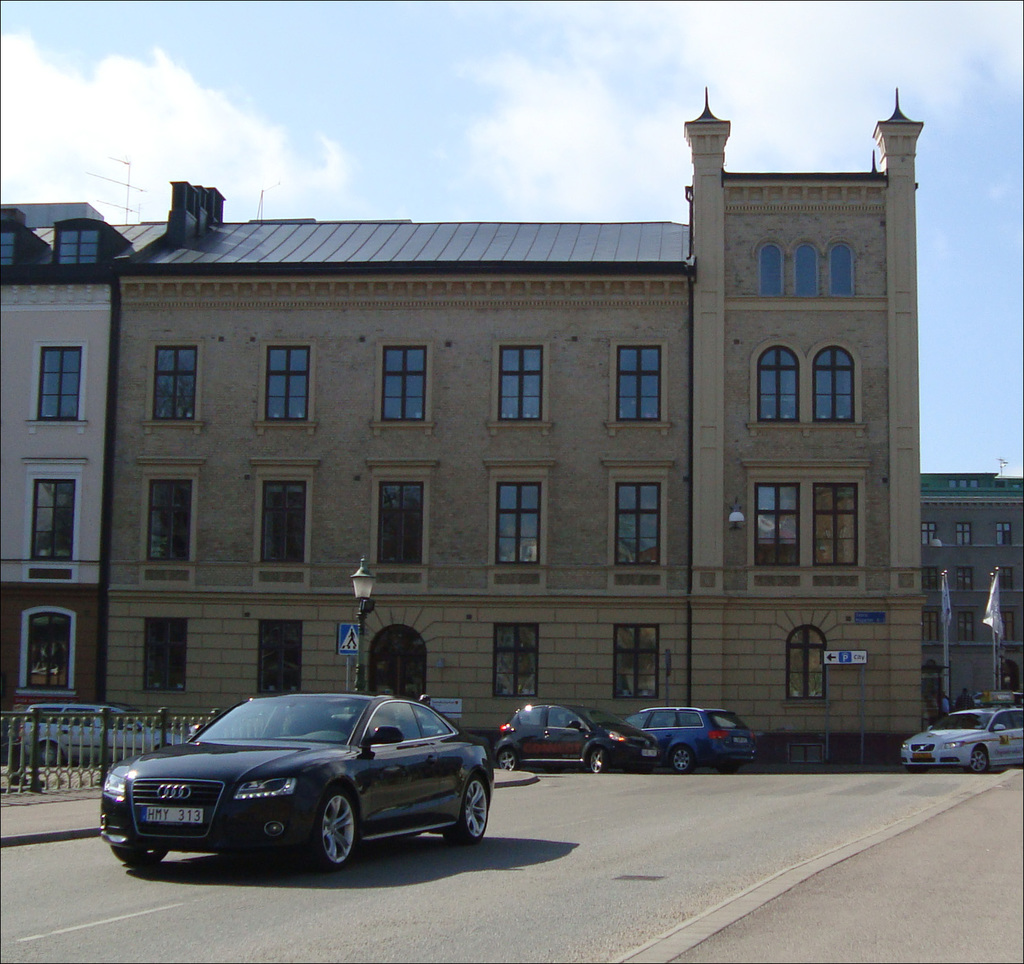Car: (103, 681, 503, 886), (504, 705, 664, 782), (635, 705, 763, 778), (30, 702, 190, 757), (902, 702, 1023, 772)
